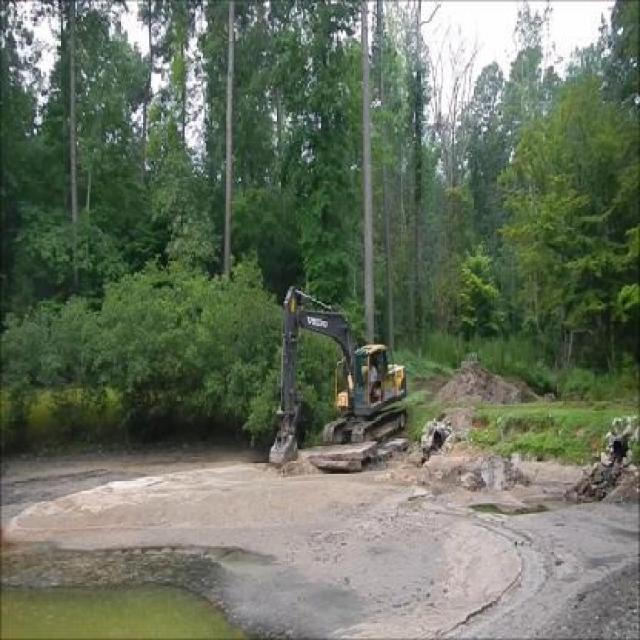Excavator: (264, 281, 408, 468)
